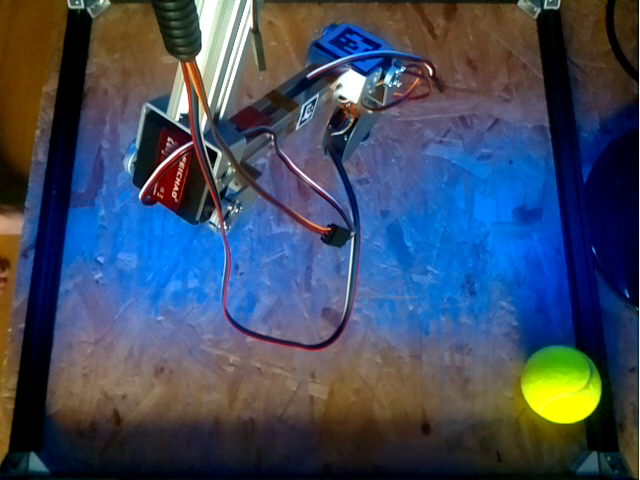tennis_ball: (521, 345, 602, 423)
